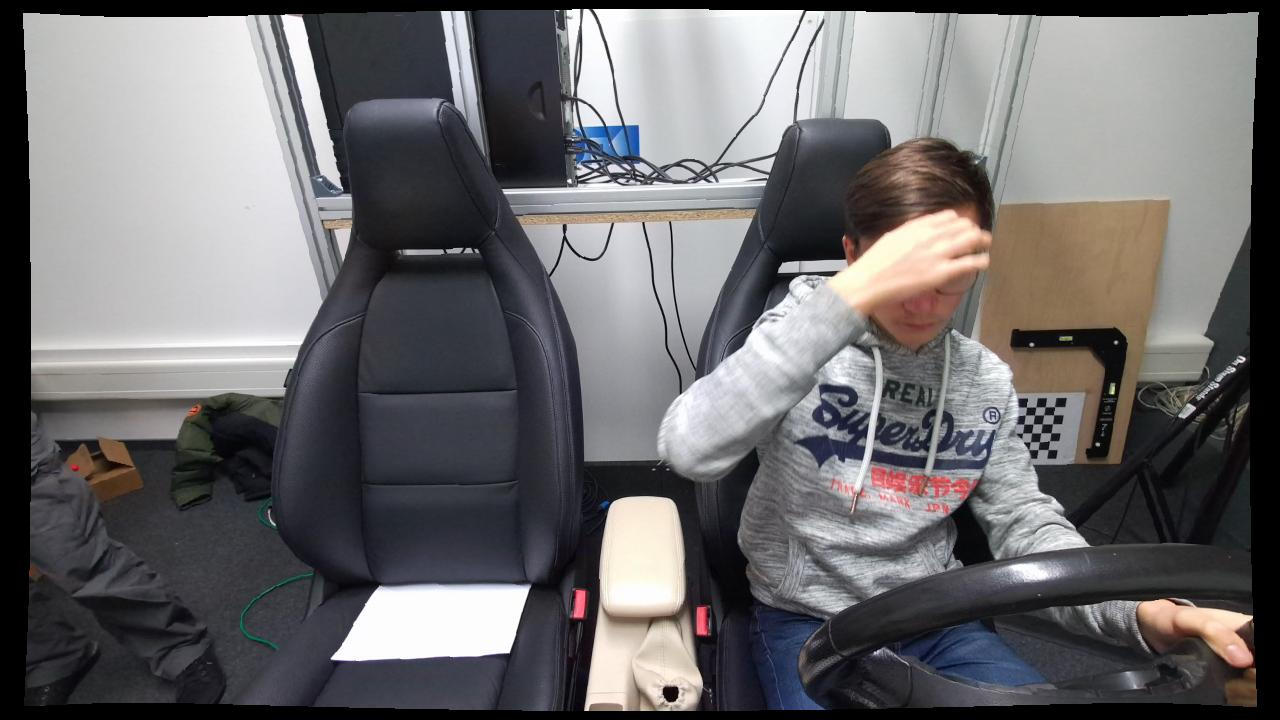Distracted: (659, 136, 1033, 713)
